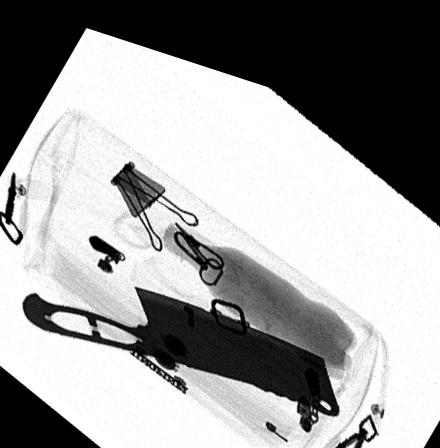Knife: (20, 275, 339, 395)
